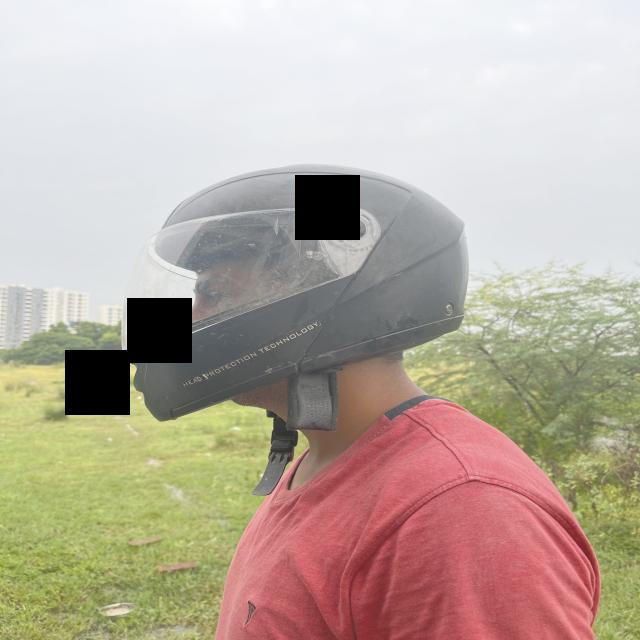Helmet: (117, 165, 468, 430)
